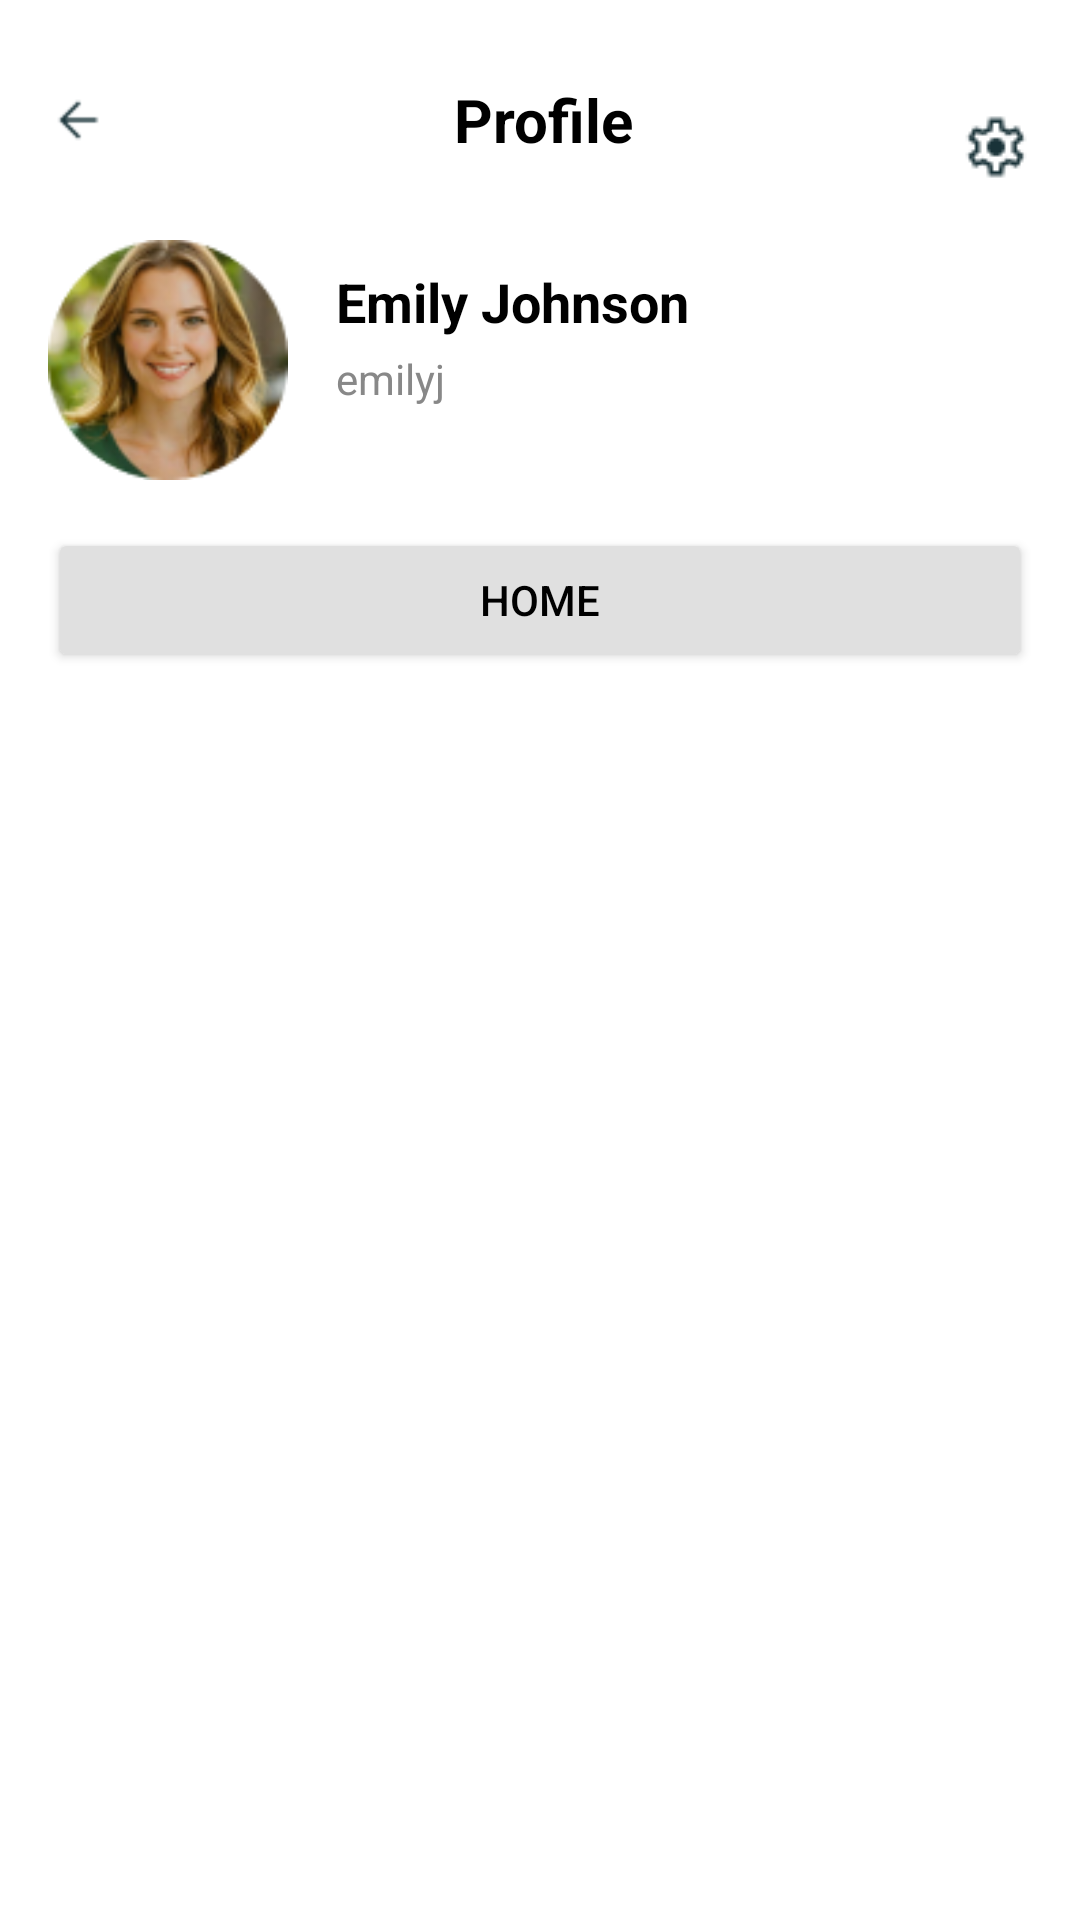

Named icons in this screenshot (1080*1920) and their centers, (x,y):
arrow: (79,120)
Settings Icon: (996,147)
